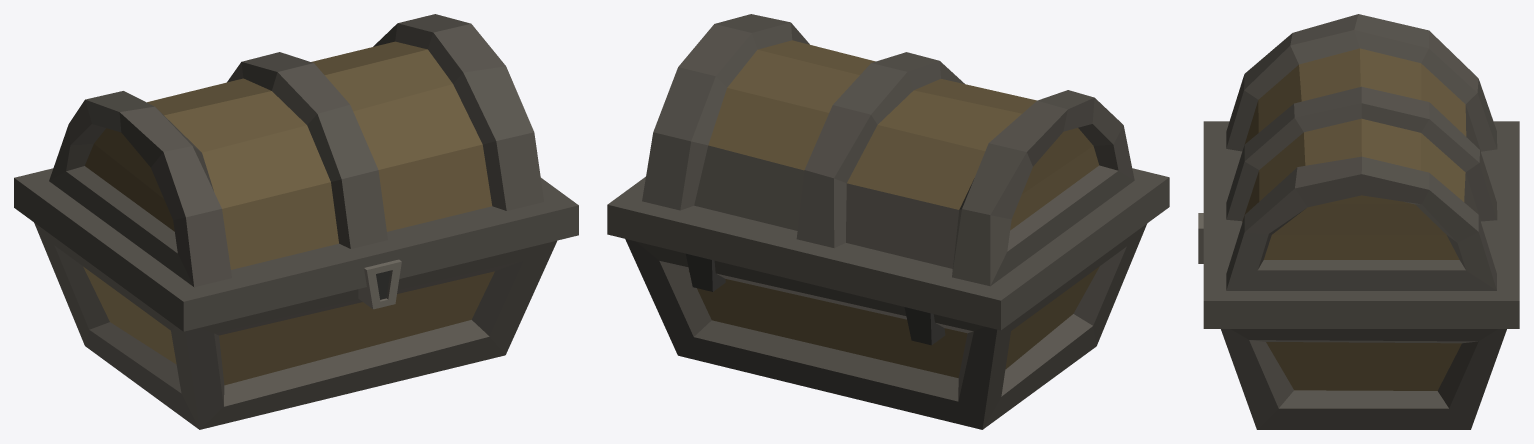
File: Chest_3.fbx
3 renders of one model, left to right at view 1: azimuth 30°, elevation 25°; view 2: azimuth 150°, elevation 25°; view 3: azimuth 270°, elevation 25°, orthographic. The views are drawn at different scales.
Visible parts, largest first — view 1: Chest_3_Lid, Chest_3; view 2: Chest_3_Lid, Chest_3; view 3: Chest_3_Lid, Chest_3.
Part boxes in pixels (x1,y1,x2,y2): Chest_3_Lid: (14, 14, 578, 331); Chest_3: (34, 222, 556, 429); Chest_3_Lid: (607, 14, 1169, 330); Chest_3: (625, 223, 1147, 429); Chest_3_Lid: (1198, 14, 1519, 328); Chest_3: (1221, 329, 1506, 429).
Size of the model in its own units: 58.75 by 40.52 by 44.35.
